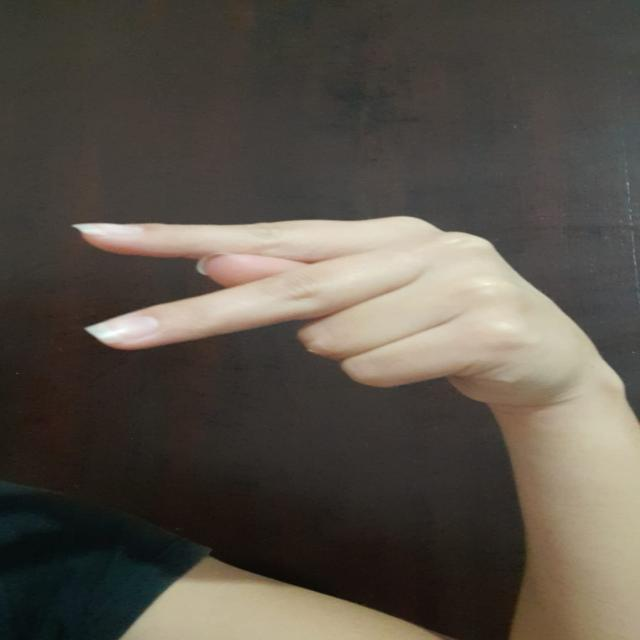P: (57, 196, 626, 418)
